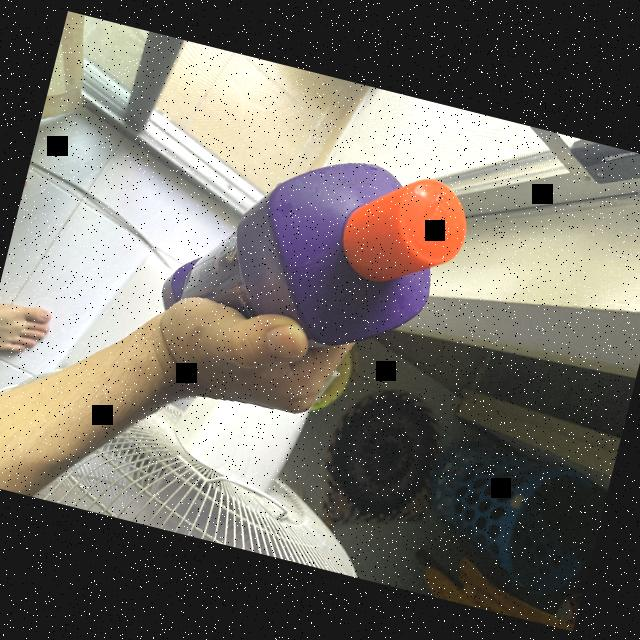toilet_cleaner: (138, 112, 482, 418)
